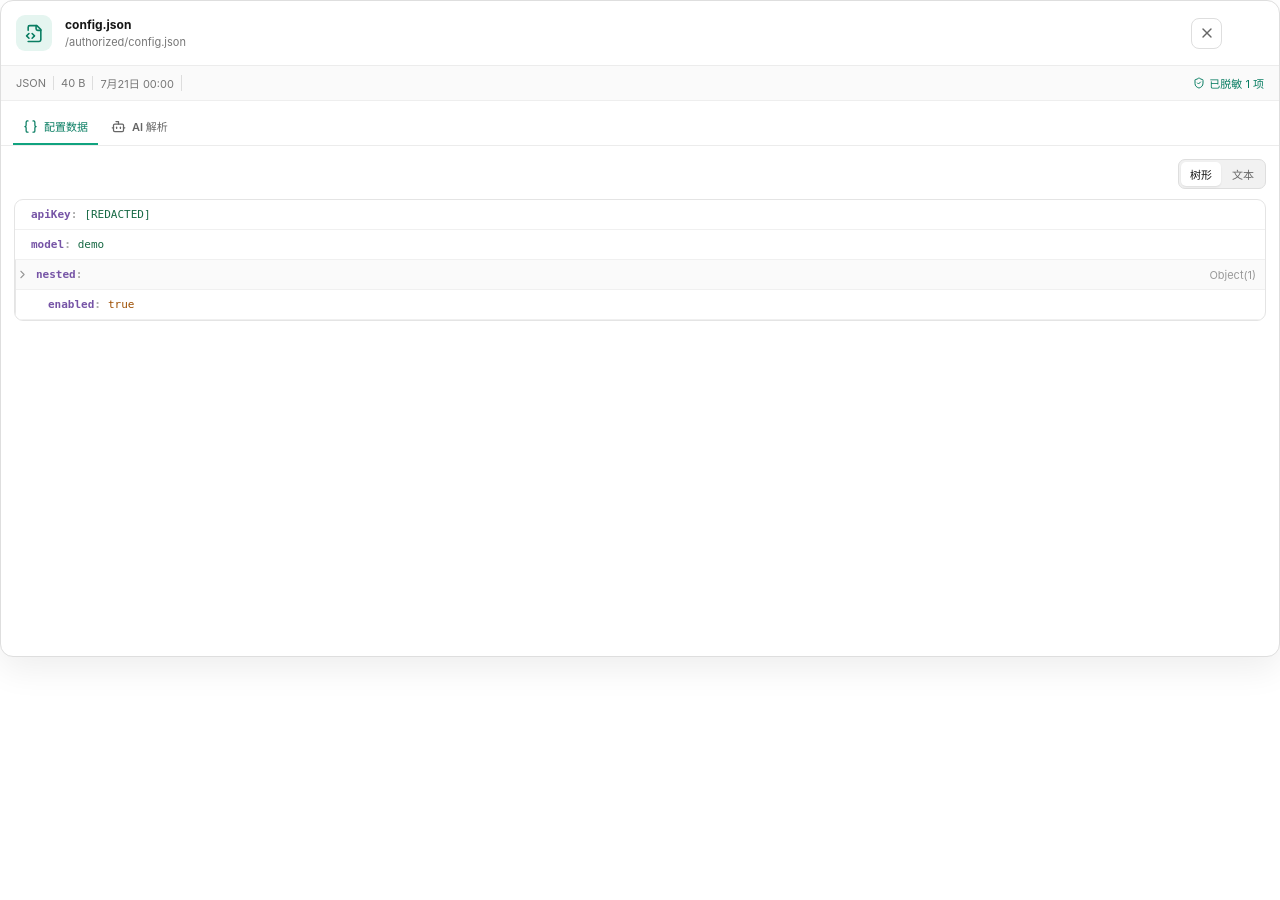
ConfigDetail › can switch to the redacted text view
Click the button "文本". click: (1243,174)
box: left=1223, top=162, right=1263, bottom=186
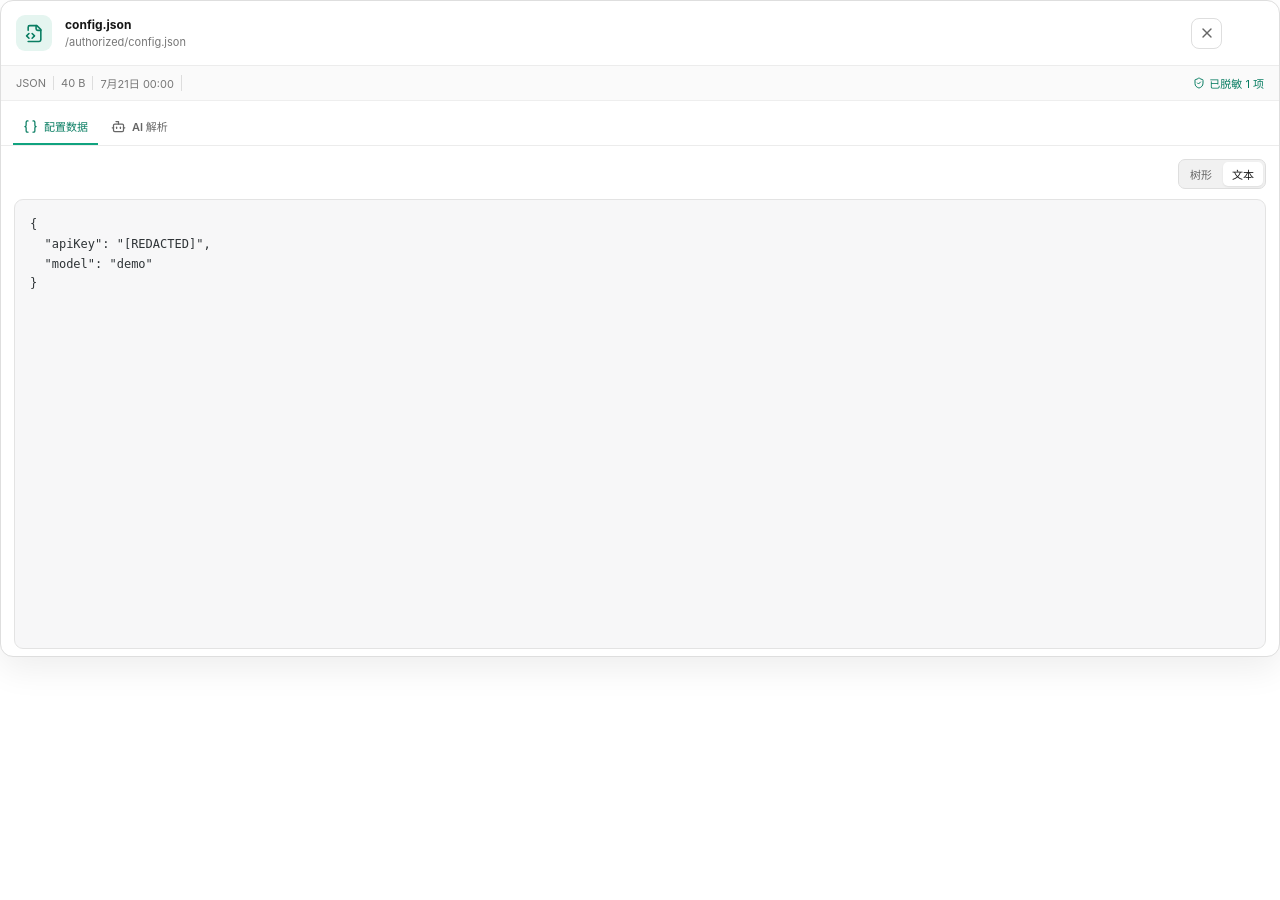
Check: the text "{ \"apiKey\": \"[REDACTED]\", \"model\": \"demo\" }" is shown, box left=14, top=199, right=1266, bottom=649
